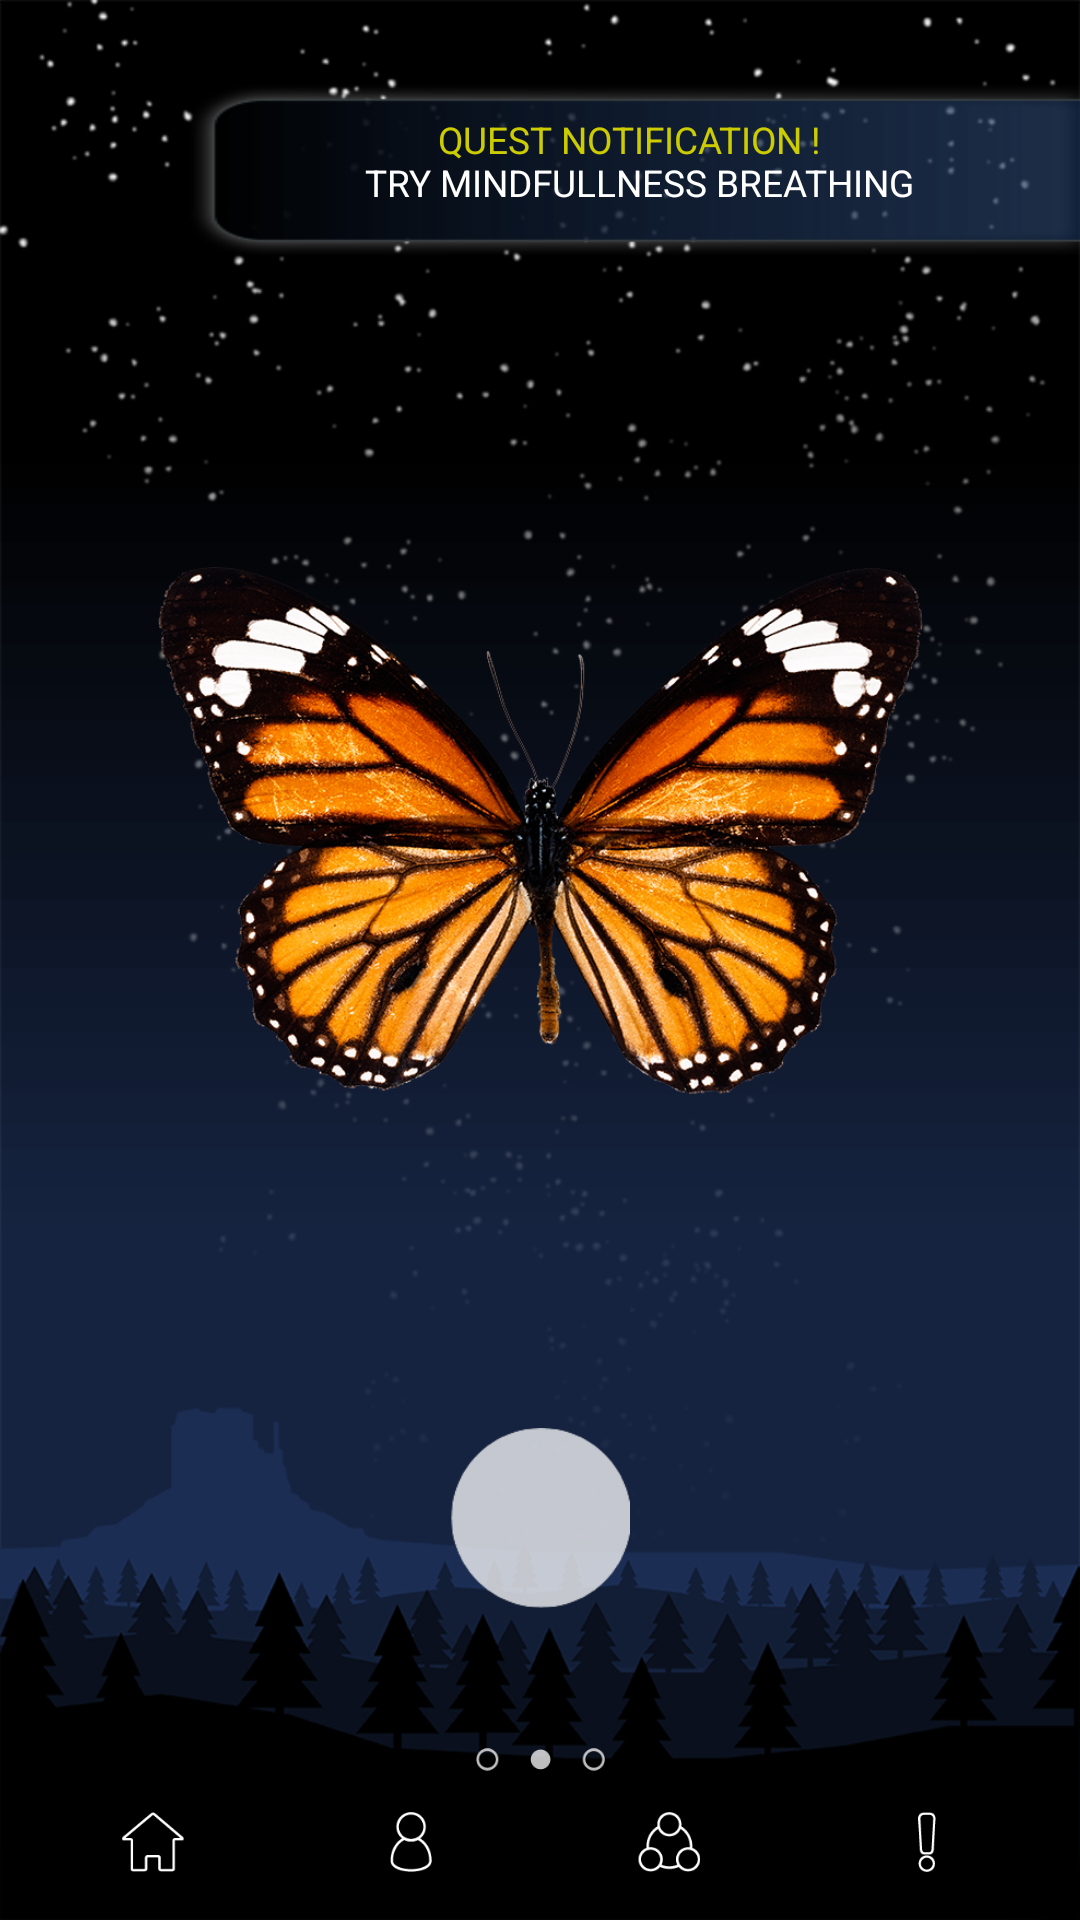

Where to tap for icons on this 1080×1920 app screen, as point (x, y):
community unfilled: point (669, 1842)
dots middle: point (540, 1751)
home unfilled: point (153, 1842)
profile unfilled: point (411, 1842)
quest unfilled: point (927, 1842)
